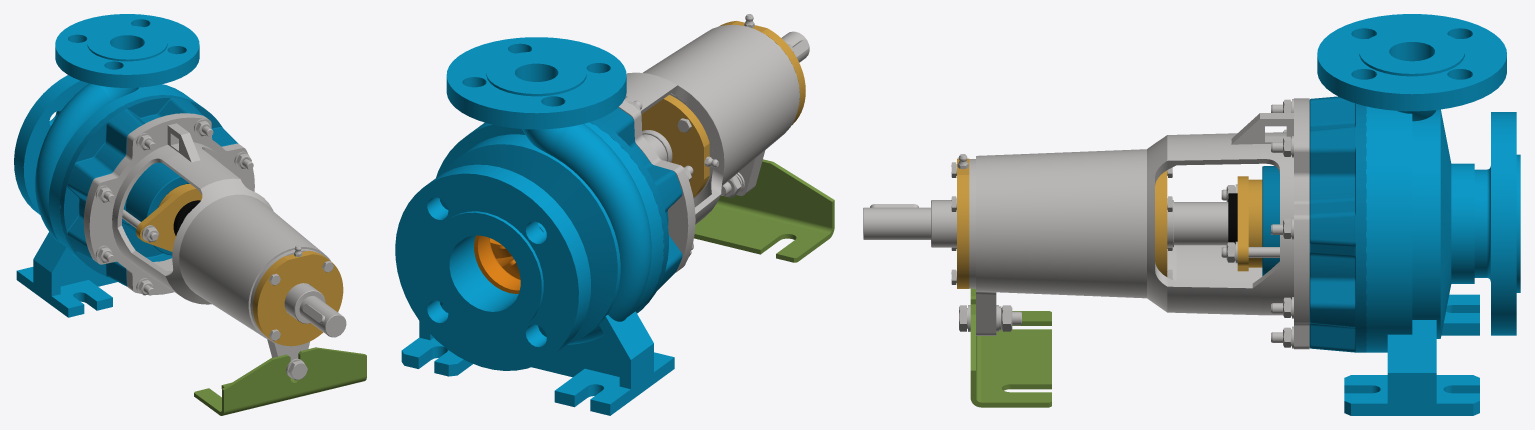
3 views of the same model, side by side, from view 1: azimuth 30°, elevation 25°; view 2: azimuth 150°, elevation 25°; view 3: azimuth 270°, elevation 25° (orthographic). The views are drawn at different scales.
Visible parts, largest first — view 1: Solid1 (×8); view 2: Solid1 (×8); view 3: Solid1 (×8).
Part boxes in pixels (<box>): Solid1 (×8): <box>14,14,366,415</box>; Solid1 (×8): <box>395,21,834,415</box>; Solid1 (×8): <box>863,14,1520,415</box>.
Size of the model in its own units: 0.1956 by 0.252 by 0.4845.
